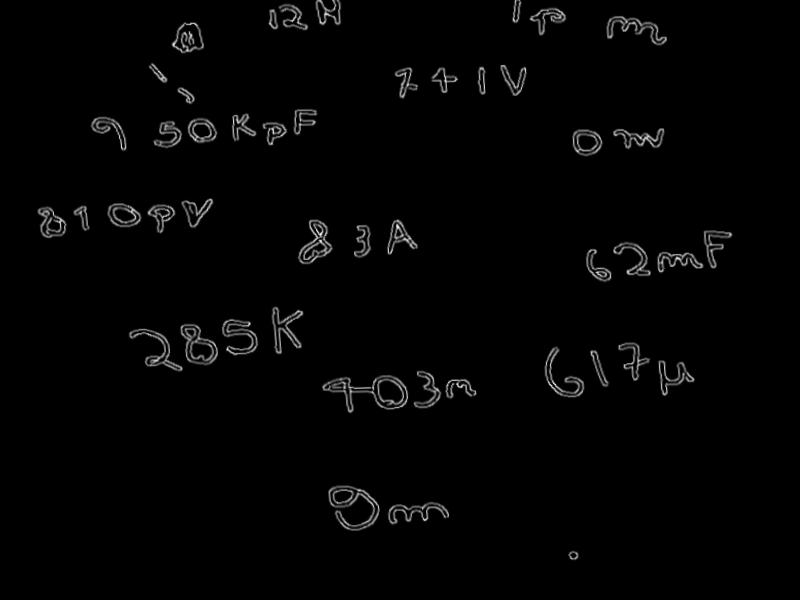0: (366, 372, 413, 413), (566, 126, 606, 160), (183, 115, 222, 146), (104, 200, 145, 229)
1: (586, 349, 612, 389), (71, 203, 92, 233), (474, 64, 491, 96), (508, 0, 526, 25), (266, 8, 281, 32)
2: (124, 324, 185, 373), (607, 238, 655, 279), (275, 1, 312, 32)
3: (408, 367, 446, 412), (348, 222, 376, 261)
4: (316, 374, 377, 415), (426, 65, 466, 101)
5: (216, 315, 261, 359), (148, 117, 185, 151)
6: (535, 342, 591, 400), (579, 247, 617, 285)
7: (613, 339, 655, 383), (391, 65, 421, 100)
8: (291, 216, 338, 268), (175, 320, 222, 368), (34, 203, 71, 242)
9: (322, 482, 385, 535), (89, 113, 130, 152)
A: (383, 218, 420, 256)
F: (700, 228, 737, 268), (290, 106, 321, 132)
V: (495, 63, 529, 97), (180, 198, 217, 229)
k: (266, 302, 308, 356), (227, 111, 260, 144)
m: (602, 12, 670, 49), (385, 498, 451, 527), (609, 125, 670, 151), (653, 248, 708, 274)
n: (441, 375, 482, 402)
p: (527, 5, 570, 36), (145, 202, 179, 234), (259, 120, 290, 148)
u: (653, 357, 698, 400), (314, 0, 347, 27)
